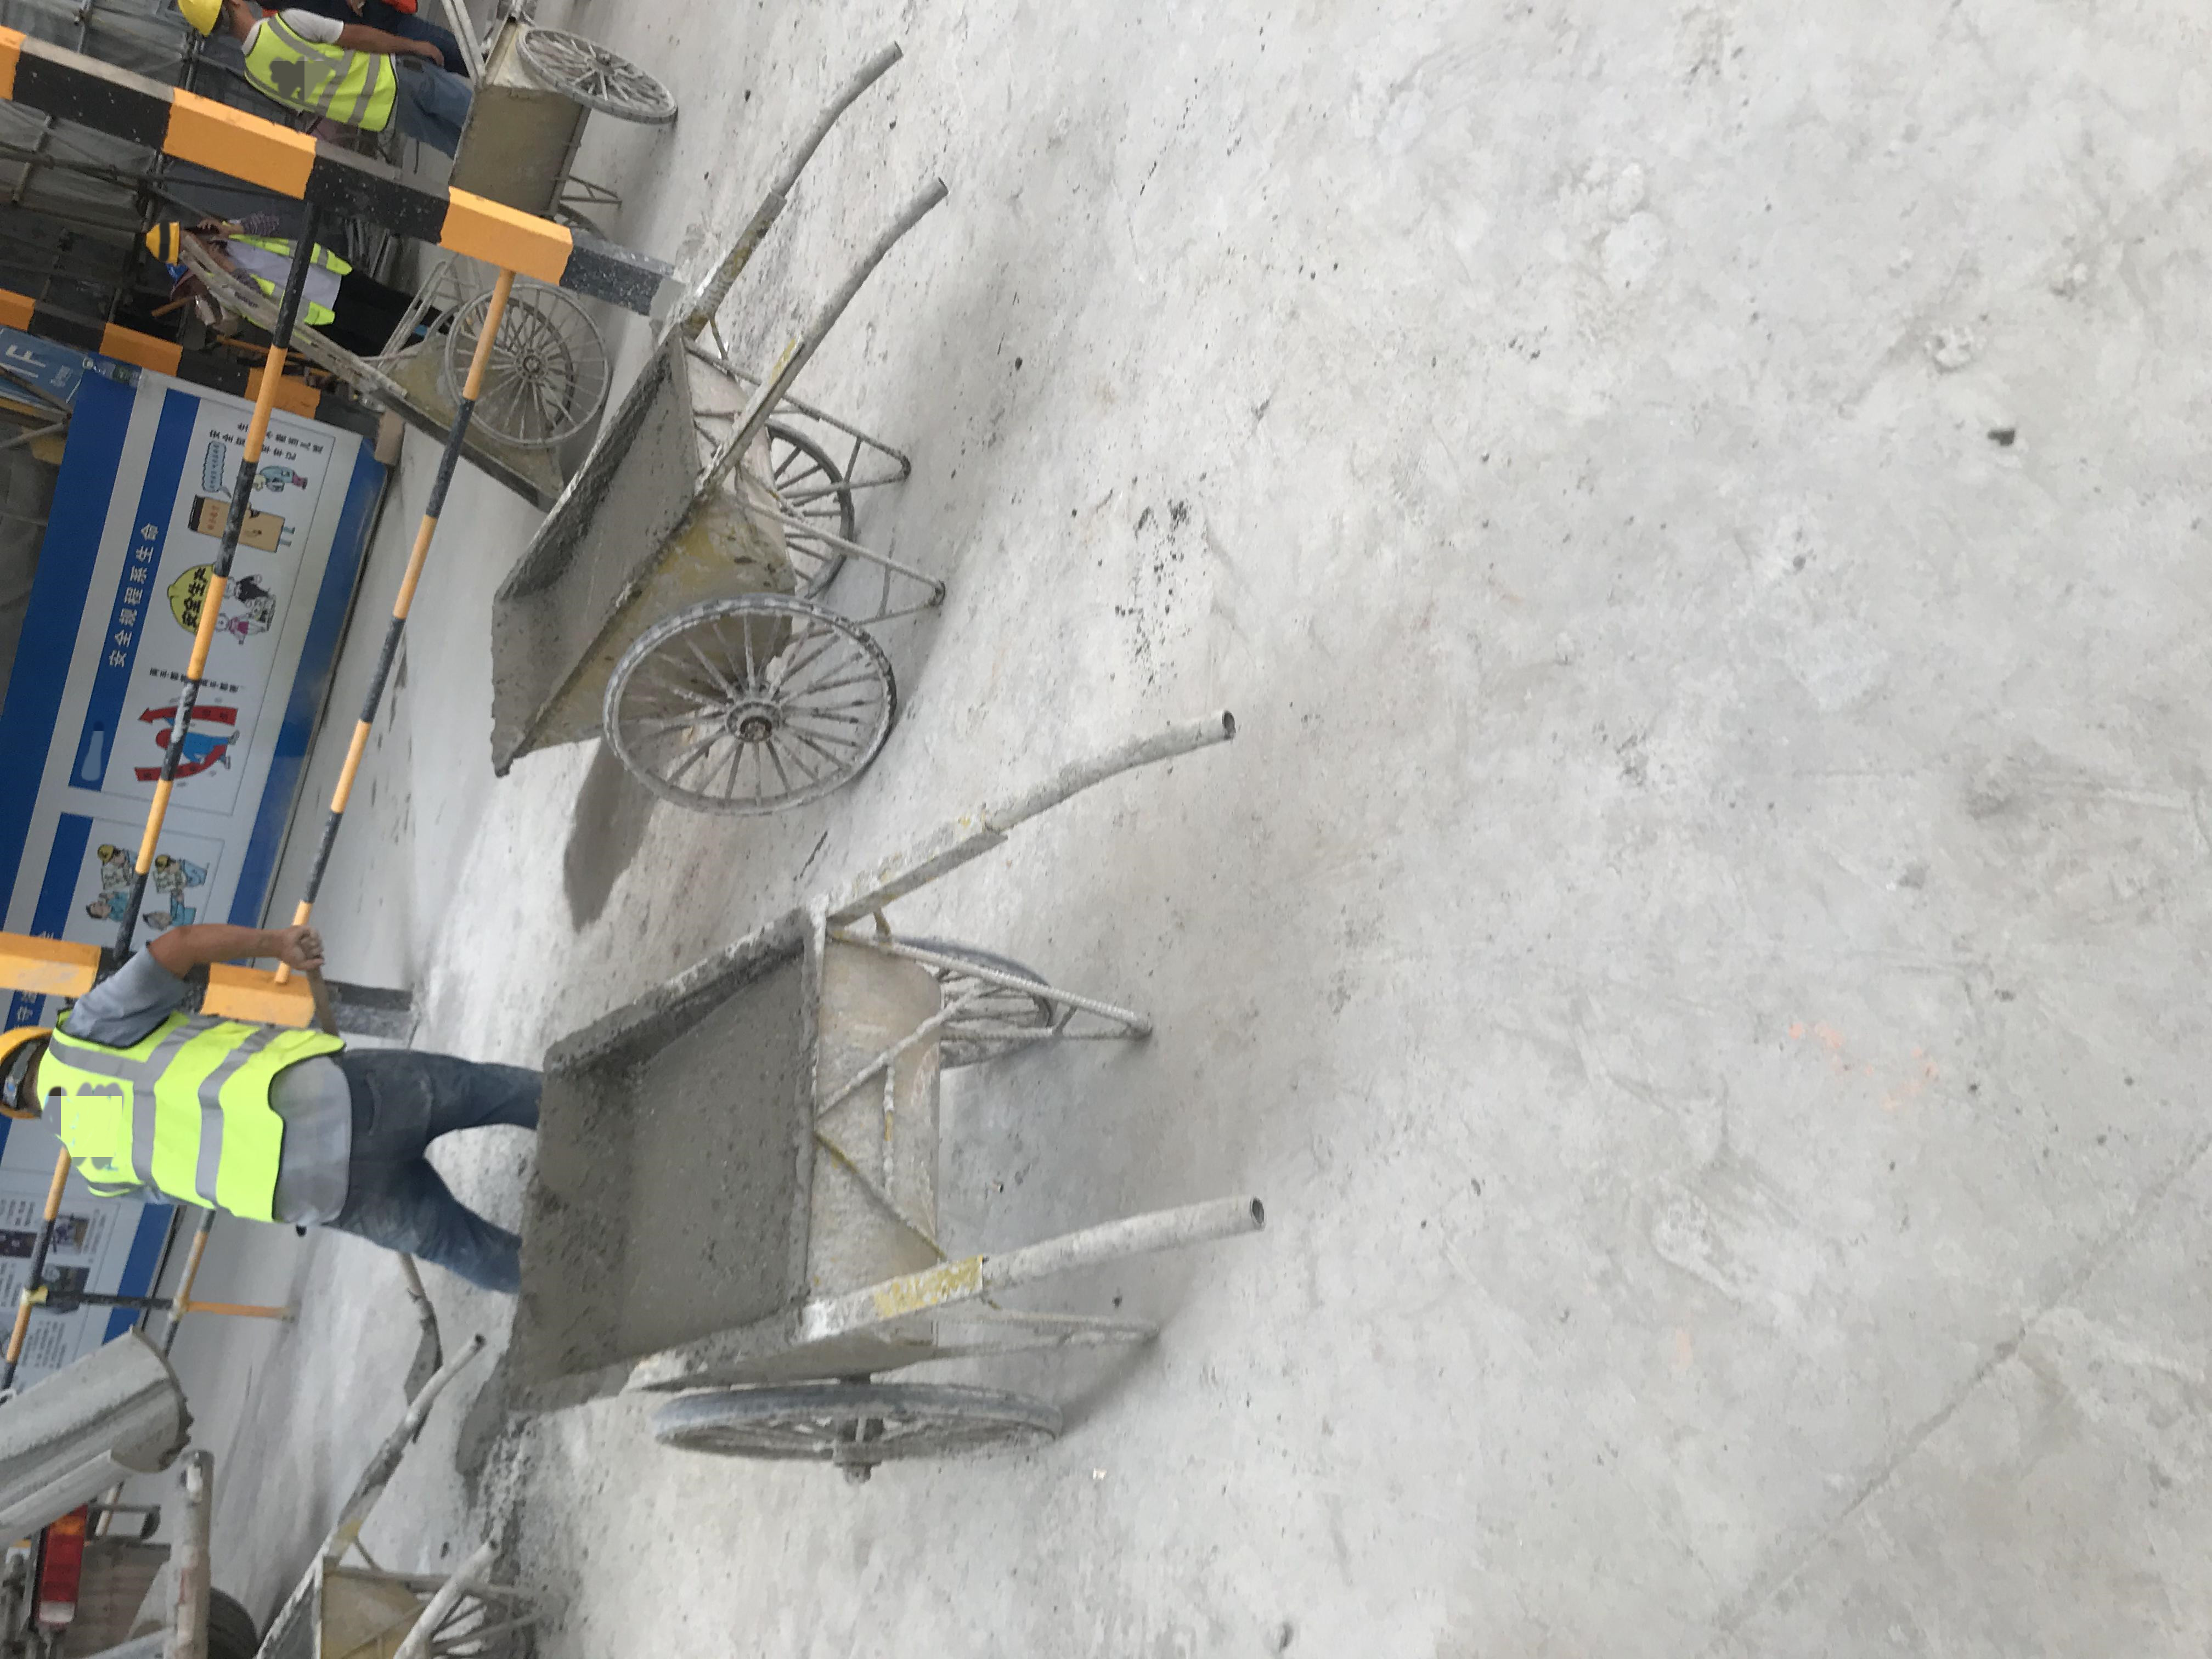handcart: (512, 698, 1269, 1491), (482, 36, 963, 831)
helmet: (1, 1026, 53, 1118), (177, 1, 225, 37), (147, 221, 180, 270)
person: (1, 914, 549, 1286), (172, 1, 475, 158), (144, 210, 454, 356)
slogan: (100, 515, 170, 673)
vest: (49, 1008, 345, 1220), (242, 14, 397, 132), (220, 230, 352, 324)
